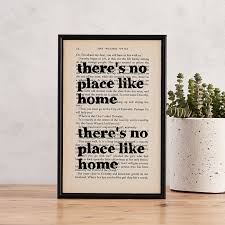book: (56, 33, 168, 202)
